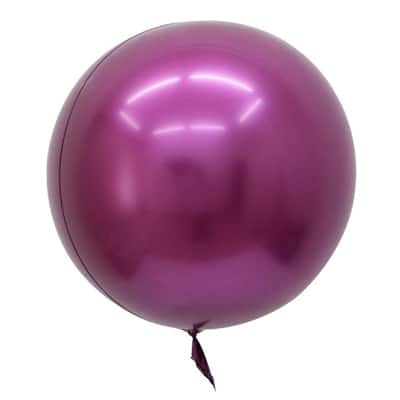Balloon: (46, 20, 356, 330)
